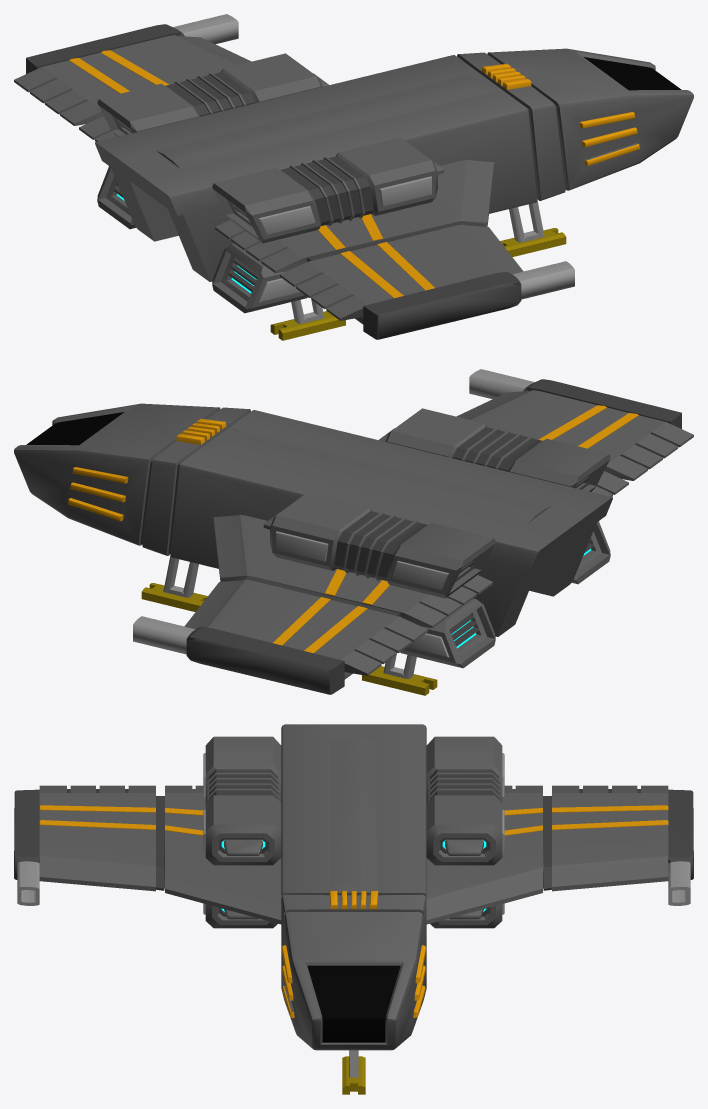
Rendered from Main ship.fbx.
The picture shows the model from 3 angles, top to bottom: view 1: azimuth 30°, elevation 25°; view 2: azimuth 150°, elevation 25°; view 3: azimuth 270°, elevation 25°; orthographic projection. The views are drawn at different scales.
Visible parts, largest first — view 1: Cube.013, Cube.011, Cube.012, Cube.007, Cube.008; view 2: Cube.013, Cube.011, Cube.012, Cube.007, Cube.008; view 3: Cube.011, Cube.013, Cube.012, Cube.007.
Part boxes in pixels (x1,y1,x2,y2): Cube.013: (95,48,693,281); Cube.011: (14,14,574,339); Cube.012: (97,53,444,313); Cube.007: (500,200,566,256); Cube.008: (270,298,345,340); Cube.013: (14,403,612,636); Cube.011: (133,369,693,694); Cube.012: (263,408,610,668); Cube.007: (141,555,207,611); Cube.008: (362,653,437,695); Cube.011: (14,785,693,924); Cube.013: (281,724,426,1050); Cube.012: (203,736,504,928); Cube.007: (342,1050,365,1094).
Size of the model in its own units: 827 by 266 by 935.
